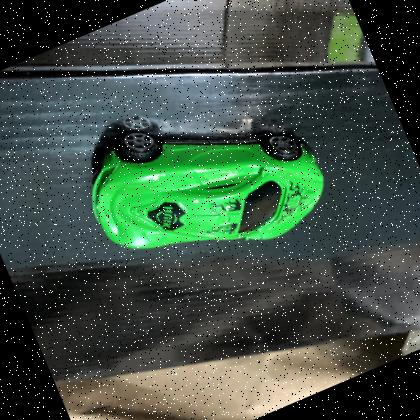Car: (90, 131, 325, 248)
